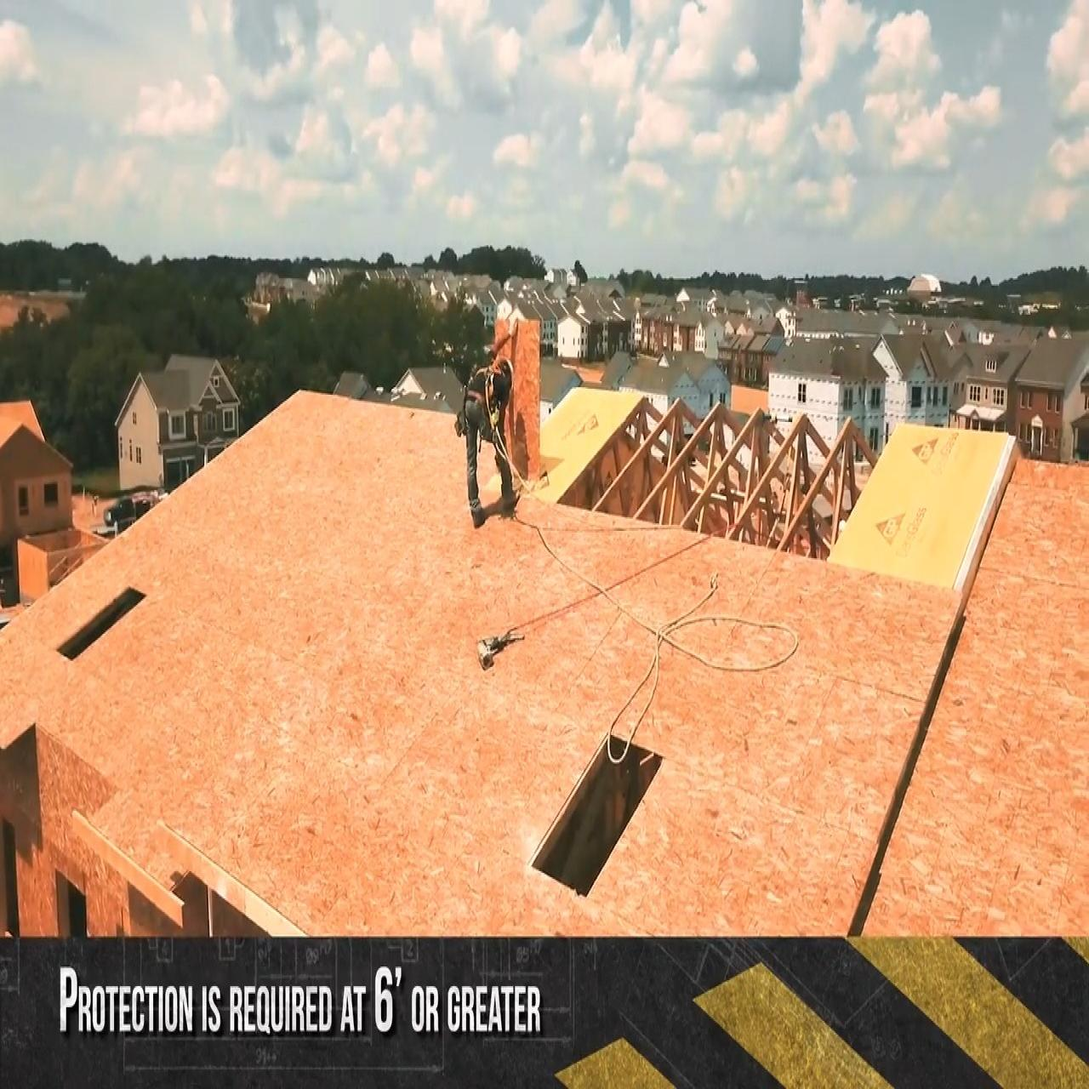NO_Safety_Vest: (468, 368, 503, 408)
Person: (465, 359, 520, 528)
